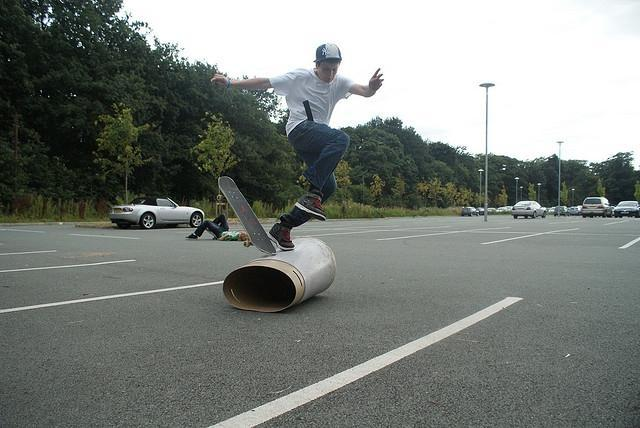car: (110, 196, 204, 230), (511, 201, 546, 219), (582, 197, 612, 218), (614, 200, 640, 218), (554, 206, 571, 216), (461, 207, 479, 216), (496, 206, 511, 214), (570, 207, 582, 215), (476, 208, 484, 216), (505, 206, 514, 212), (487, 208, 496, 212), (548, 208, 556, 212)
